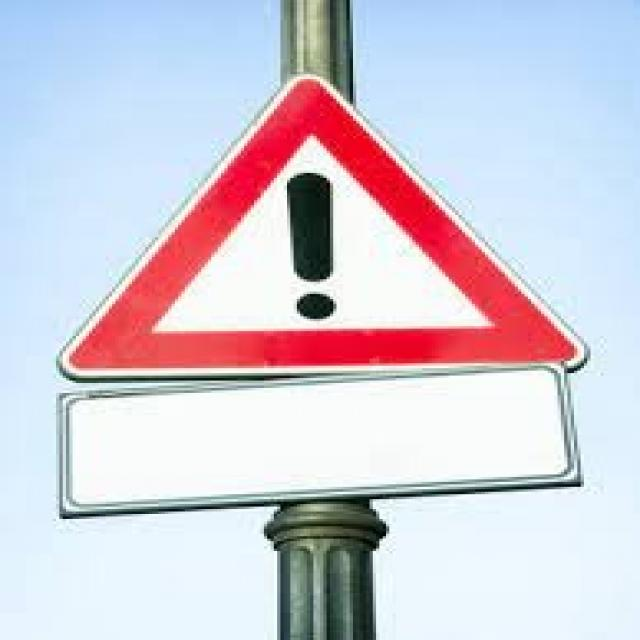warning: (48, 72, 610, 384)
